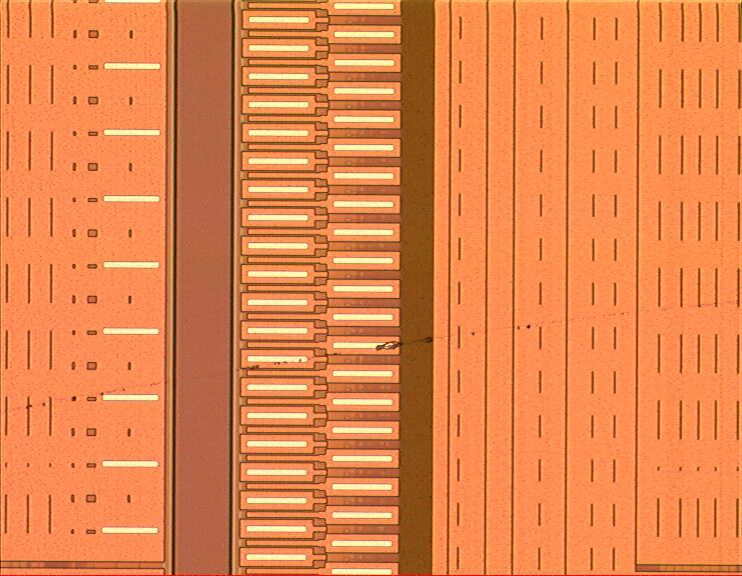SCRATCH: (1, 287, 742, 423)
